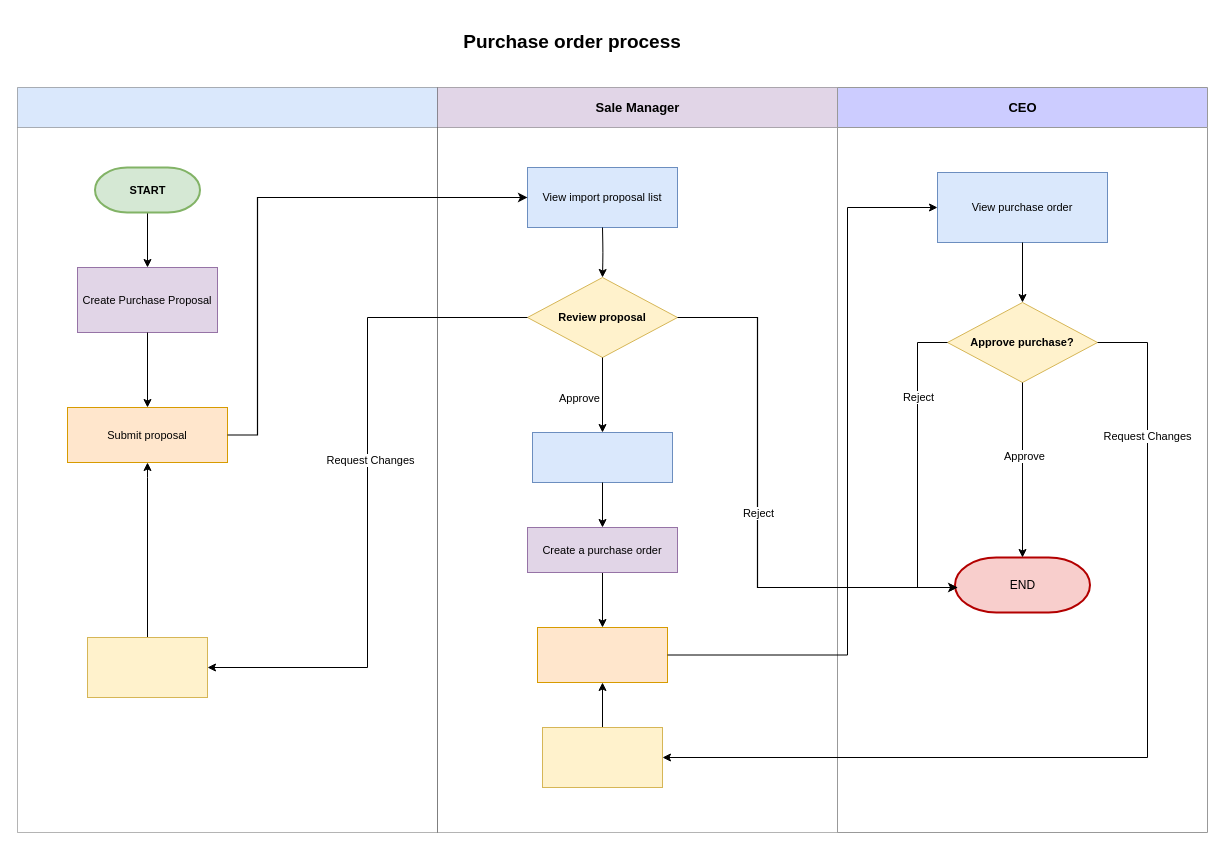
Image size: 1225x850. Some labels were removed from this diagram. The box of each missing label's shape, as (x1, y1, x2, y2) in pixels:
Collect purchase proposals: (532, 432, 672, 482)
Sales Staff: (17, 87, 437, 832)
Submit a purchase order: (536, 626, 668, 682)
Update proposal: (86, 636, 208, 698)
Update purchase order: (542, 726, 662, 788)
